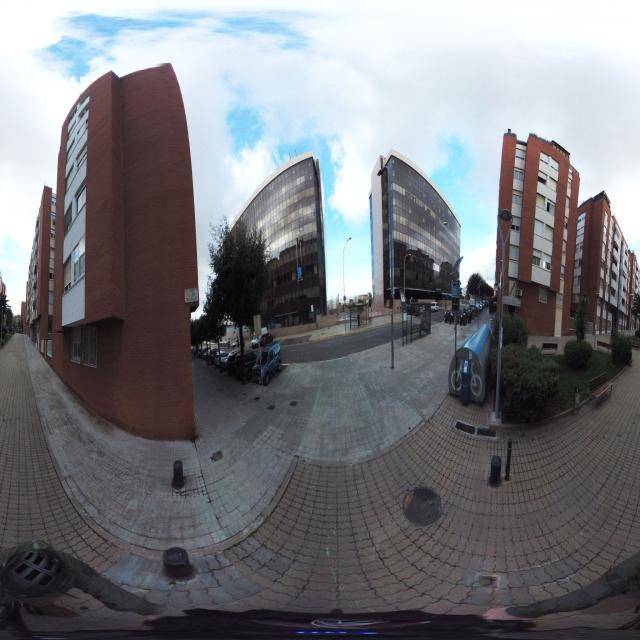forb_stopping: (389, 294, 393, 309)
forb_waiting: (344, 295, 347, 302)
